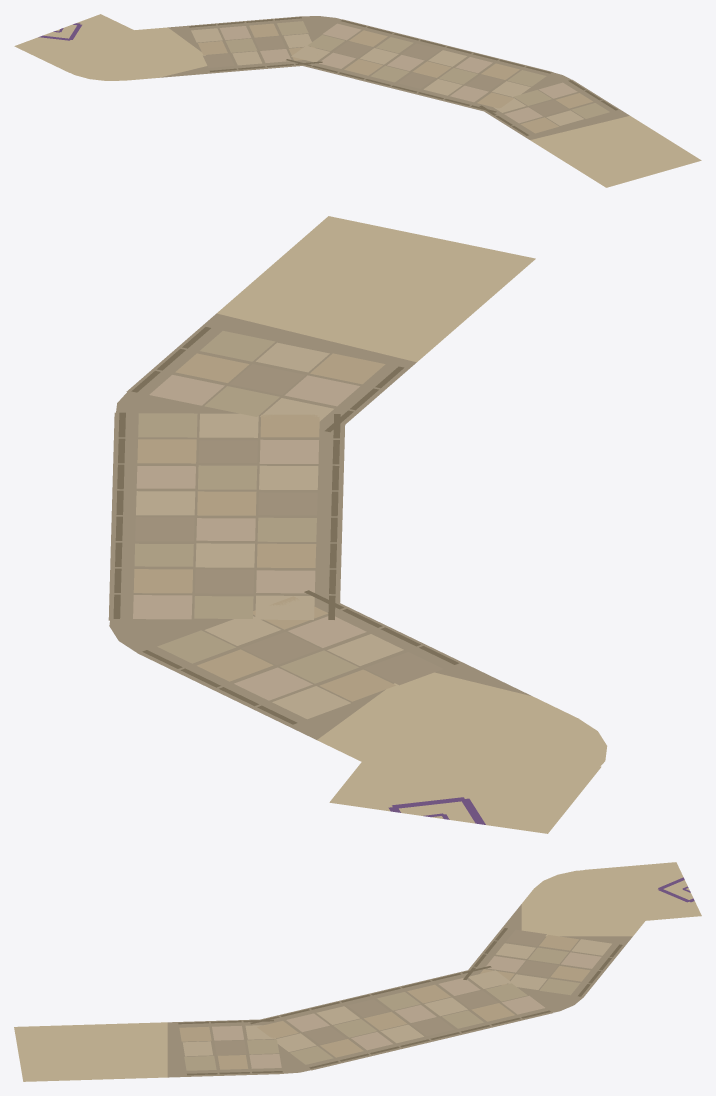
Rendered from route-yard_s-pyramid_s-walk.glb.
3 renders of one model, top to bottom at view 1: azimuth 30°, elevation 25°; view 2: azimuth 150°, elevation 25°; view 3: azimuth 270°, elevation 25°, orthographic. The views are drawn at different scales.
Parts seen in each view (by area): view 1: Surveyed floor · route-yard_s-pyramid_s-walk, Cloth Yard to South Pyramid / #C9B798, Cloth Yard to South Pyramid / #C2AE8D, Cloth Yard to South Pyramid / #BDAD8E, Cloth Yard to South Pyramid / #C7B399, Cloth Yard to South Pyramid / #AE9D84, Cloth Yard to South Pyramid / #85775D; view 2: Surveyed floor · route-yard_s-pyramid_s-walk, Cloth Yard to South Pyramid / #C9B798, Cloth Yard to South Pyramid / #C2AE8D, Cloth Yard to South Pyramid / #BDAD8E, Cloth Yard to South Pyramid / #C7B399, Cloth Yard to South Pyramid / #AE9D84, Cloth Yard to South Pyramid / #85775D; view 3: Surveyed floor · route-yard_s-pyramid_s-walk, Cloth Yard to South Pyramid / #C9B798, Cloth Yard to South Pyramid / #C2AE8D, Cloth Yard to South Pyramid / #BDAD8E, Cloth Yard to South Pyramid / #C7B399, Cloth Yard to South Pyramid / #AE9D84, Cloth Yard to South Pyramid / #85775D.
Part boxes in pixels (x1,y1,x2,y2): Surveyed floor · route-yard_s-pyramid_s-walk: (14, 14, 701, 187); Cloth Yard to South Pyramid / #C9B798: (191, 28, 583, 125); Cloth Yard to South Pyramid / #C2AE8D: (198, 23, 592, 133); Cloth Yard to South Pyramid / #BDAD8E: (225, 21, 609, 118); Cloth Yard to South Pyramid / #C7B399: (219, 23, 577, 123); Cloth Yard to South Pyramid / #AE9D84: (203, 36, 568, 115); Cloth Yard to South Pyramid / #85775D: (189, 17, 617, 135); Surveyed floor · route-yard_s-pyramid_s-walk: (108, 216, 607, 833); Cloth Yard to South Pyramid / #C9B798: (136, 342, 403, 719); Cloth Yard to South Pyramid / #C2AE8D: (133, 353, 395, 701); Cloth Yard to South Pyramid / #BDAD8E: (134, 331, 358, 683); Cloth Yard to South Pyramid / #C7B399: (133, 375, 366, 700); Cloth Yard to South Pyramid / #AE9D84: (135, 364, 442, 685); Cloth Yard to South Pyramid / #85775D: (113, 327, 458, 724); Surveyed floor · route-yard_s-pyramid_s-walk: (14, 862, 701, 1081); Cloth Yard to South Pyramid / #C9B798: (182, 939, 611, 1056); Cloth Yard to South Pyramid / #C2AE8D: (179, 935, 590, 1069); Cloth Yard to South Pyramid / #BDAD8E: (184, 947, 580, 1070); Cloth Yard to South Pyramid / #C7B399: (212, 952, 601, 1068); Cloth Yard to South Pyramid / #AE9D84: (214, 929, 557, 1055); Cloth Yard to South Pyramid / #85775D: (178, 928, 622, 1075).
Bounding box in the file's own units: 27.92 × 0.026 × 36.94.
